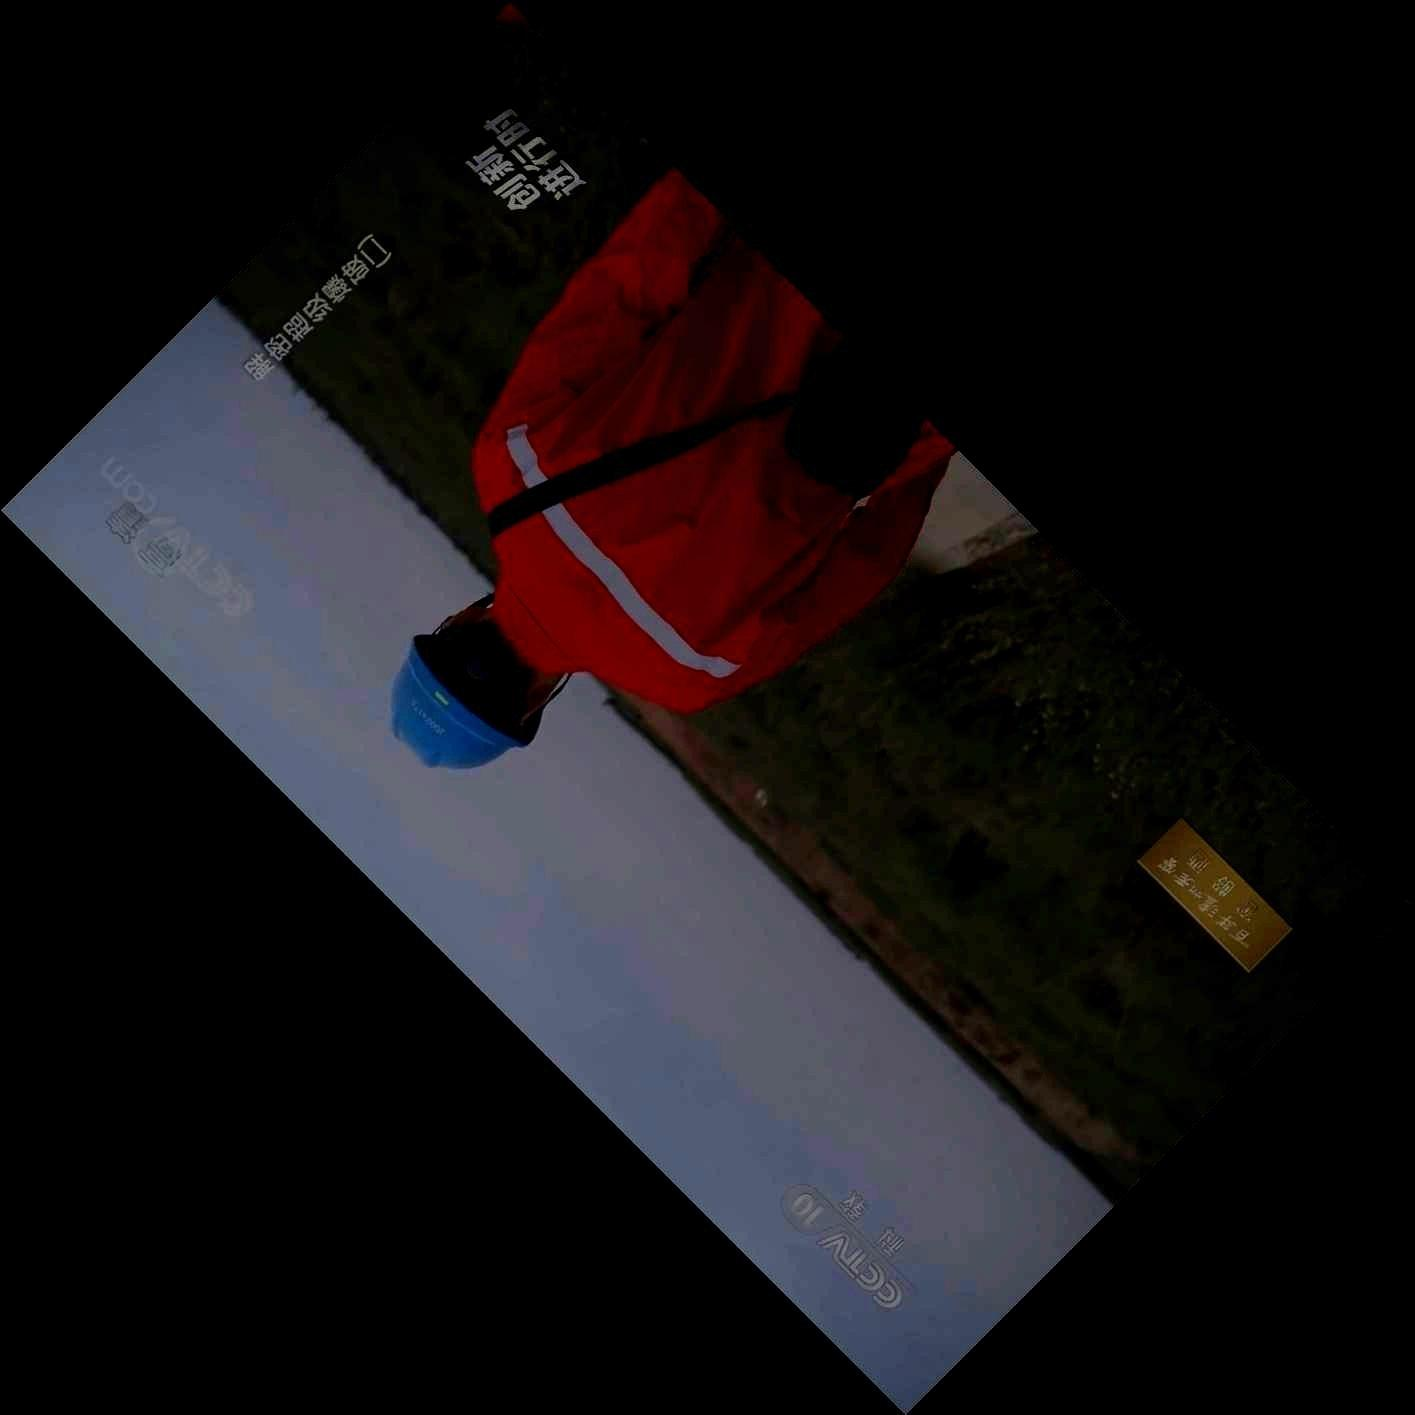helmet: (387, 605, 564, 768)
